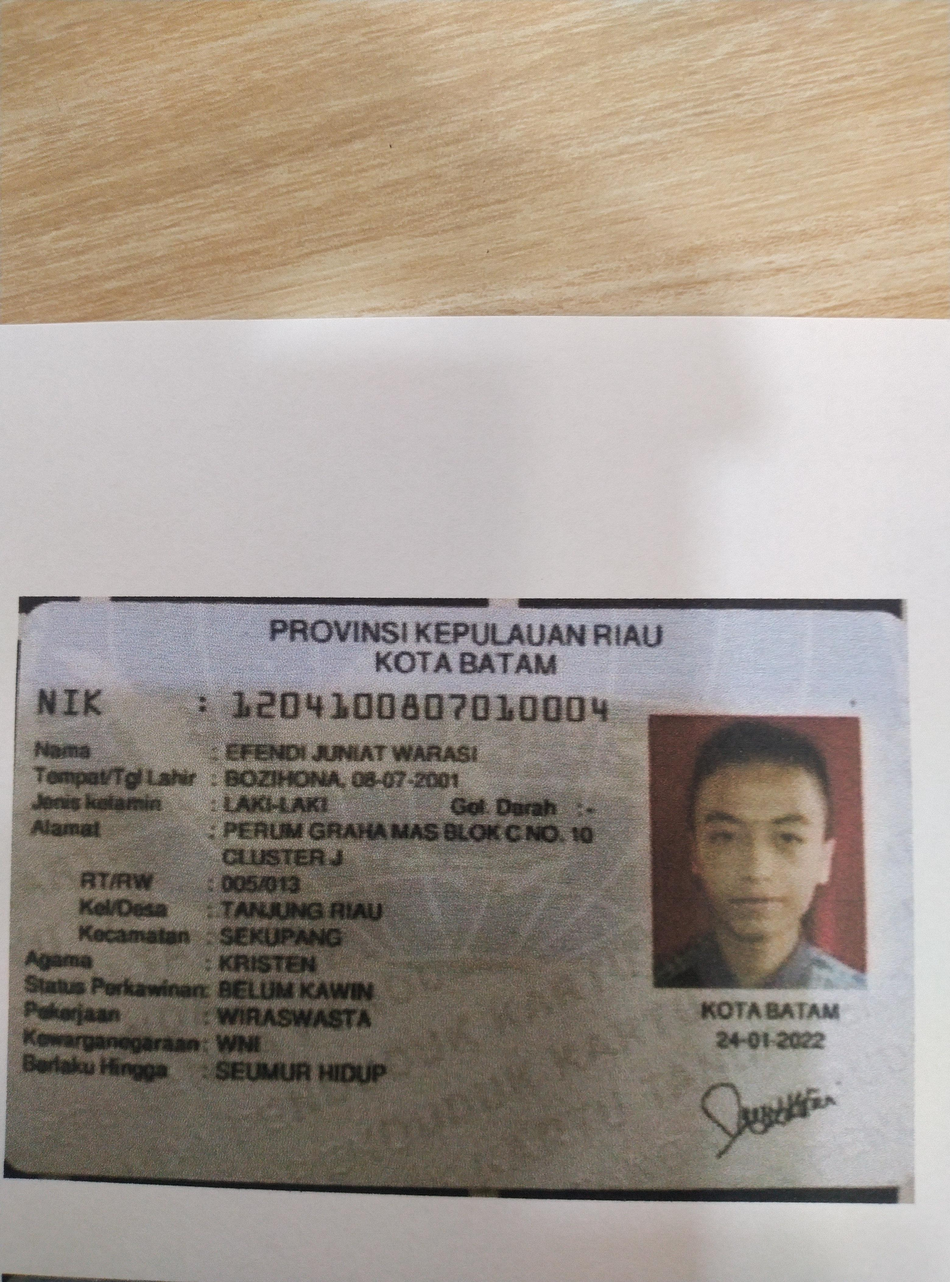ktp: (3, 610, 900, 1187)
